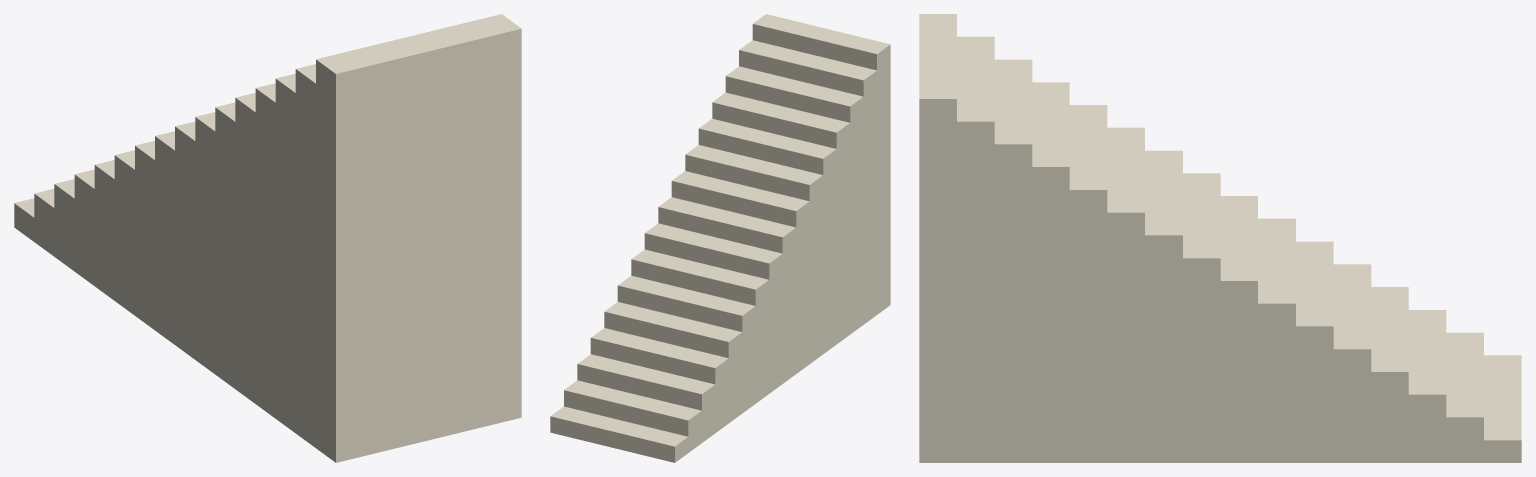
The model's file is stairs-straight-4-m.glb.
The picture shows the model from 3 angles, left to right: view 1: azimuth 30°, elevation 25°; view 2: azimuth 150°, elevation 25°; view 3: azimuth 270°, elevation 25°; orthographic projection. The views are drawn at different scales.
Parts seen in each view (by area): view 1: stairs-straight-4m; view 2: stairs-straight-4m; view 3: stairs-straight-4m.
Part boxes in pixels (x1,y1,x2,y2): stairs-straight-4m: (14, 14, 521, 462); stairs-straight-4m: (550, 14, 890, 462); stairs-straight-4m: (919, 14, 1521, 462).
Size of the model in its own units: 2 by 4 by 6.
